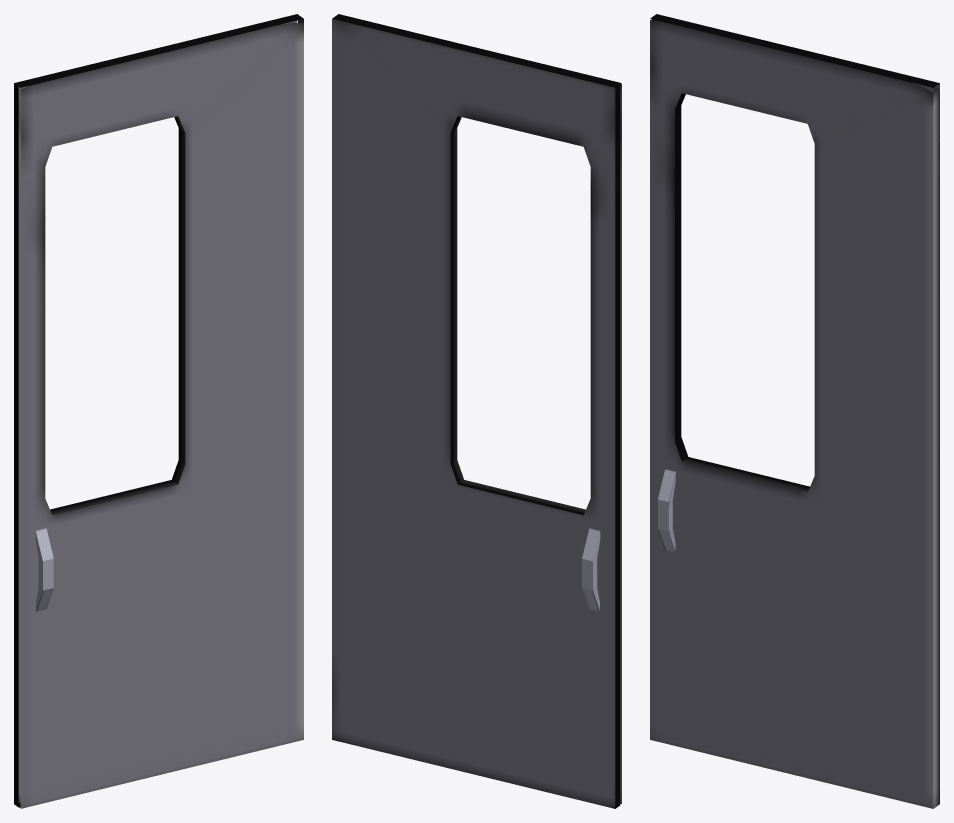
Rendered from door inside.obj.
The picture shows the model from 3 angles, left to right: view 1: azimuth 30°, elevation 25°; view 2: azimuth 150°, elevation 25°; view 3: azimuth 330°, elevation 25°; orthographic projection.
Visible parts, largest first — view 1: Door_Inside_Cube.017; view 2: Door_Inside_Cube.017; view 3: Door_Inside_Cube.017.
Boxes of the visible parts, x1,y1,x2,y2 form: Door_Inside_Cube.017: [14, 14, 303, 808]; Door_Inside_Cube.017: [332, 14, 621, 808]; Door_Inside_Cube.017: [650, 14, 939, 808].
Bounding box in the file's own units: 0.5158 × 1.25 × 0.0667.
